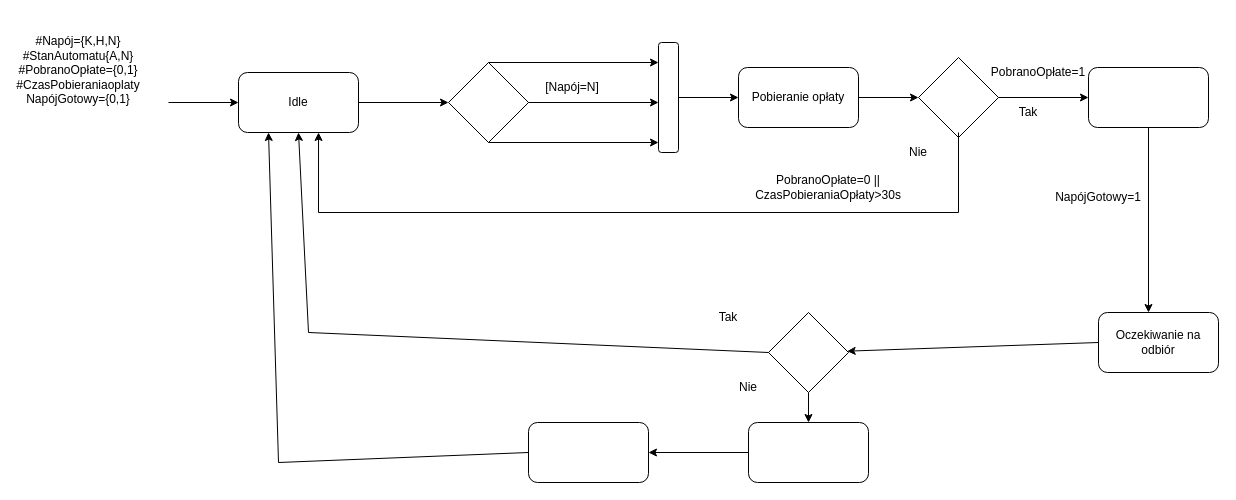
Image size: 1236x500. Some labels were removed from this diagram. Here are the shapes that lost their labels. From the top down, the centre of each, then its label:
pixel 1148 97: Przygotowanie napoju
pixel 588 452: Włącz funkcję "X"
